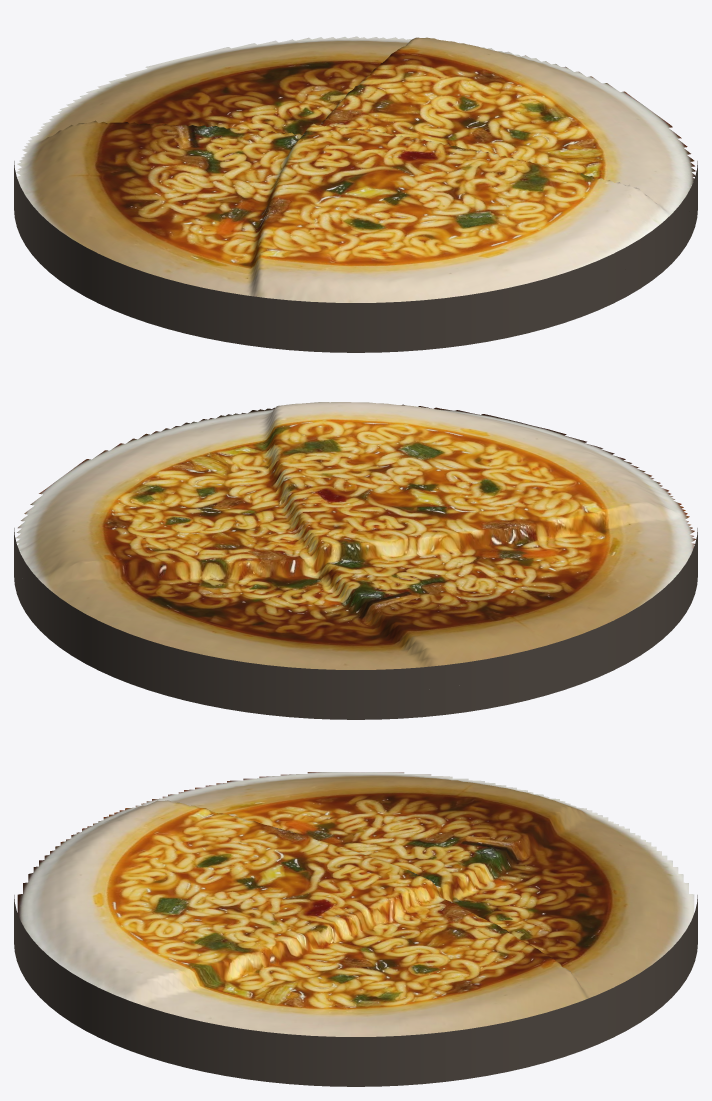
The model's file is plato.glb.
3 views of the same model, one above another, from view 1: azimuth 30°, elevation 25°; view 2: azimuth 150°, elevation 25°; view 3: azimuth 270°, elevation 25° (orthographic).
Bounding box in the file's own units: 0.2985 × 0.0284 × 0.2985.
Materials: 2 (1 with a texture image).
